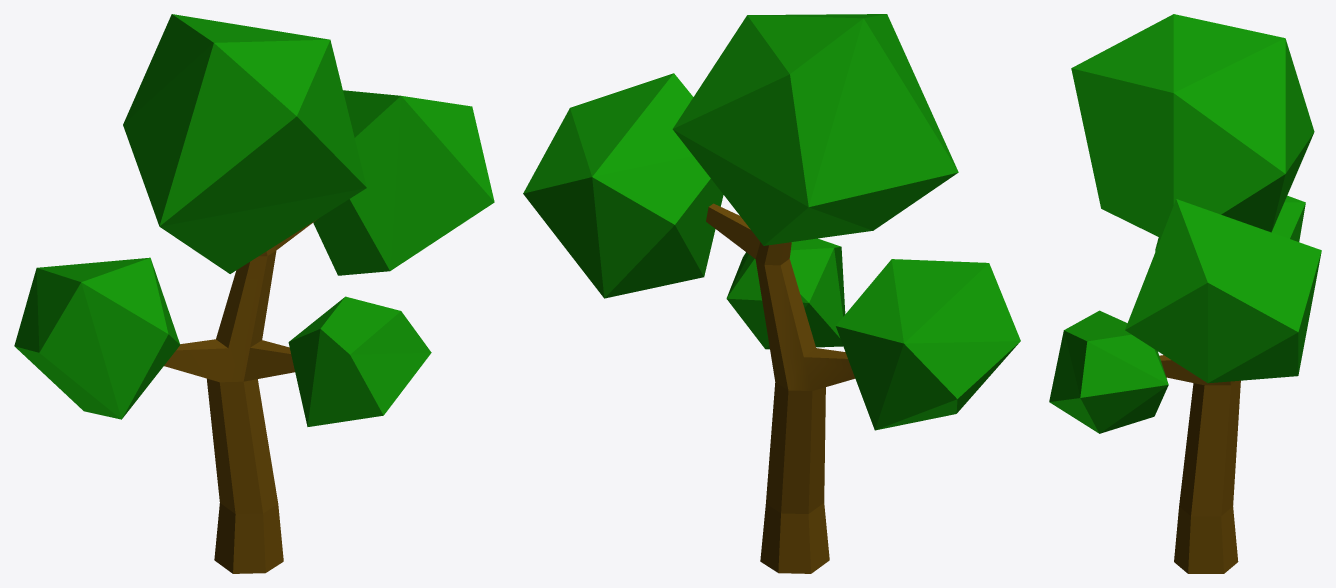
File: tree2.fbx
3 renders of one model, left to right at view 1: azimuth 30°, elevation 25°; view 2: azimuth 150°, elevation 25°; view 3: azimuth 270°, elevation 25°, orthographic. The views are drawn at different scales.
Parts seen in each view (by area): view 1: tree2; view 2: tree2; view 3: tree2.
Boxes of the visible parts, <box> form: tree2: <box>14,14,494,573</box>; tree2: <box>523,14,1020,573</box>; tree2: <box>1049,14,1321,573</box>.
Bounding box in the file's own units: 5.09 × 5.97 × 2.82.
